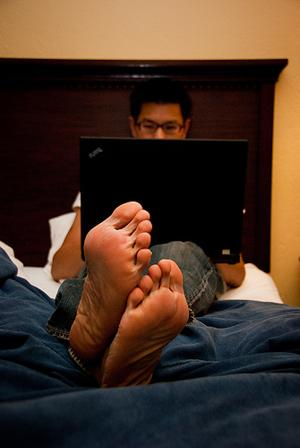person: (52, 82, 244, 389)
